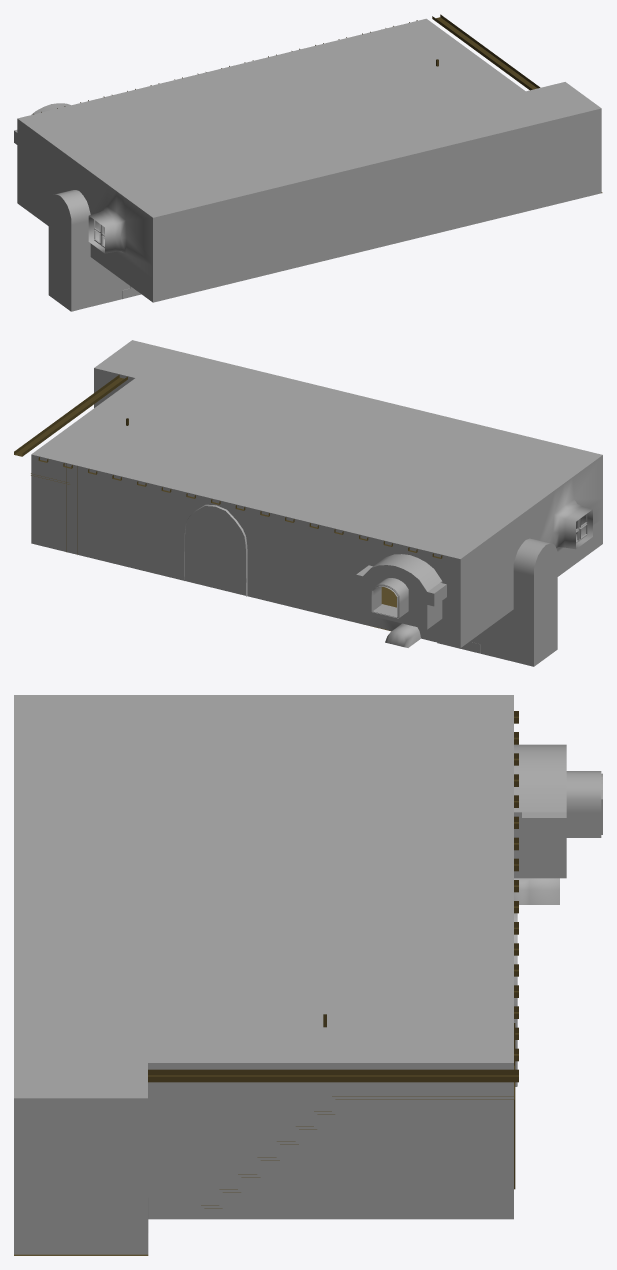
The model's file is HMC_LivingRoom.fbx.
The picture shows the model from 3 angles, top to bottom: view 1: azimuth 30°, elevation 25°; view 2: azimuth 150°, elevation 25°; view 3: azimuth 270°, elevation 25°; orthographic projection. The views are drawn at different scales.
Parts seen in each view (by area): view 1: Walls.002, Walls; view 2: Walls.002, Walls; view 3: Walls.002, Walls.
Part boxes in pixels (x1,y1,x2,y2): Walls.002: [14, 18, 602, 311]; Walls: [33, 14, 540, 114]; Walls.002: [31, 340, 602, 666]; Walls: [14, 374, 442, 558]; Walls.002: [14, 695, 601, 1255]; Walls: [148, 711, 518, 1208].
Size of the model in its own units: 5995 by 1725 by 3539.
